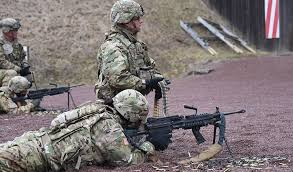gun: (118, 103, 248, 147), (10, 81, 86, 103)
